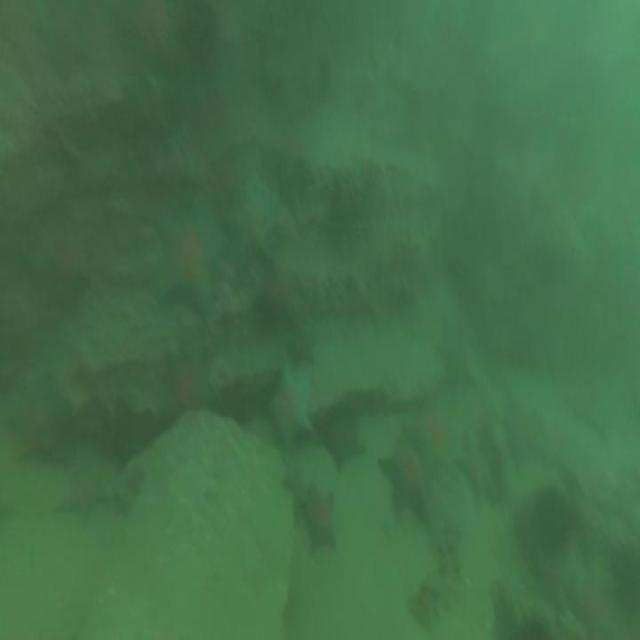echinus: (529, 479, 578, 556), (175, 0, 217, 63)
holothurian: (404, 540, 465, 629)
starfish: (148, 191, 228, 316), (11, 370, 78, 471), (224, 177, 282, 275), (373, 433, 433, 526), (404, 396, 462, 486), (164, 342, 218, 428), (452, 428, 502, 512), (267, 365, 318, 447), (294, 476, 340, 560), (316, 411, 370, 469), (50, 477, 108, 531), (282, 326, 317, 374)
